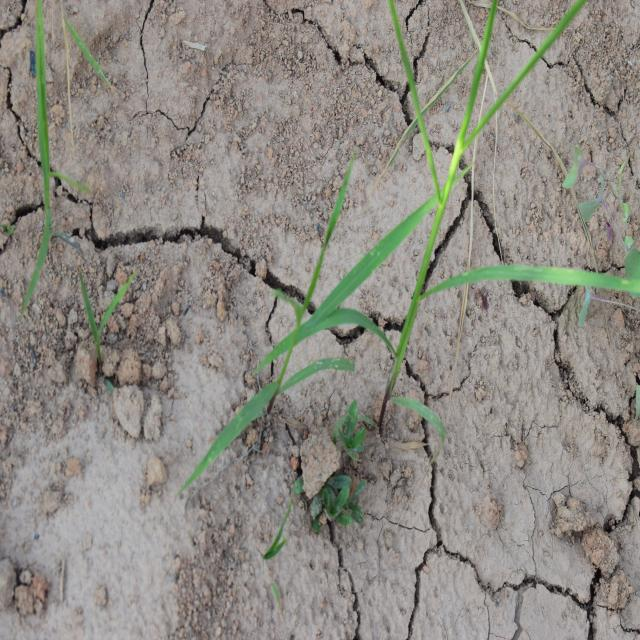green_foxtail: (203, 180, 409, 435)
